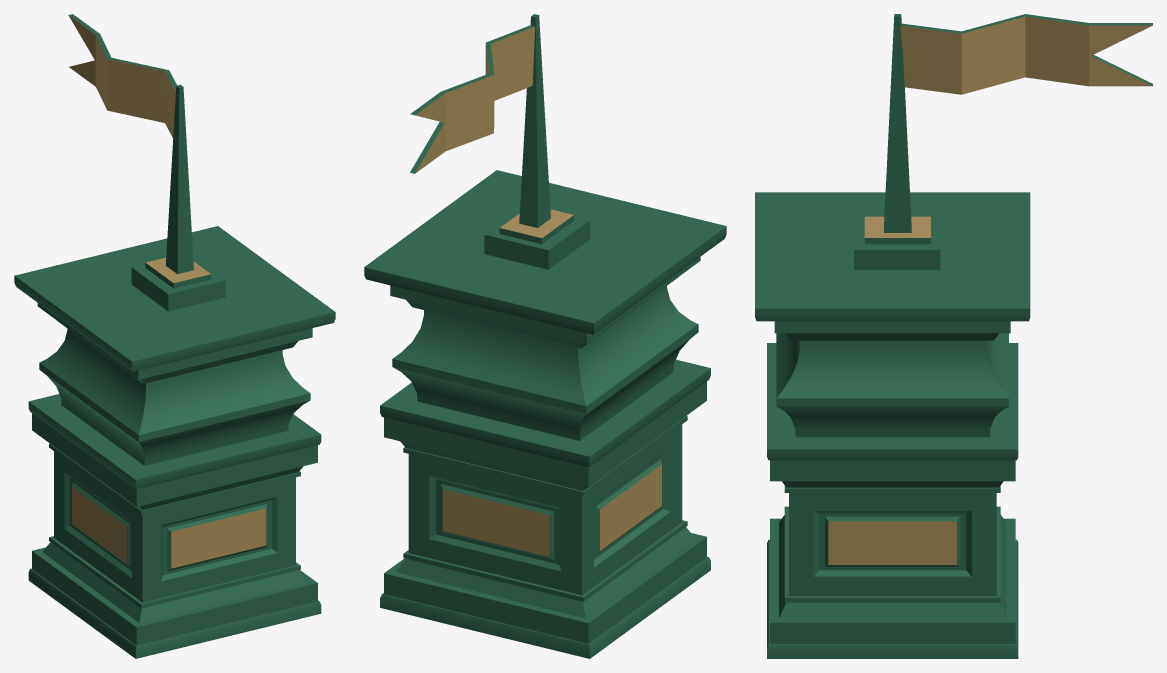
Rendered from checkpointObject.glb.
3 views of the same model, side by side, from view 1: azimuth 30°, elevation 25°; view 2: azimuth 150°, elevation 25°; view 3: azimuth 270°, elevation 25° (orthographic). The views are drawn at different scales.
Visible parts, largest first — view 1: Checkpoint002; view 2: Checkpoint002; view 3: Checkpoint002.
Boxes of the visible parts, left/top/right/bottom form: Checkpoint002: left=14, top=14, right=335, bottom=658; Checkpoint002: left=364, top=14, right=726, bottom=658; Checkpoint002: left=755, top=14, right=1152, bottom=658.
Bounding box in the file's own units: 0.9544 × 2.27 × 1.38.
